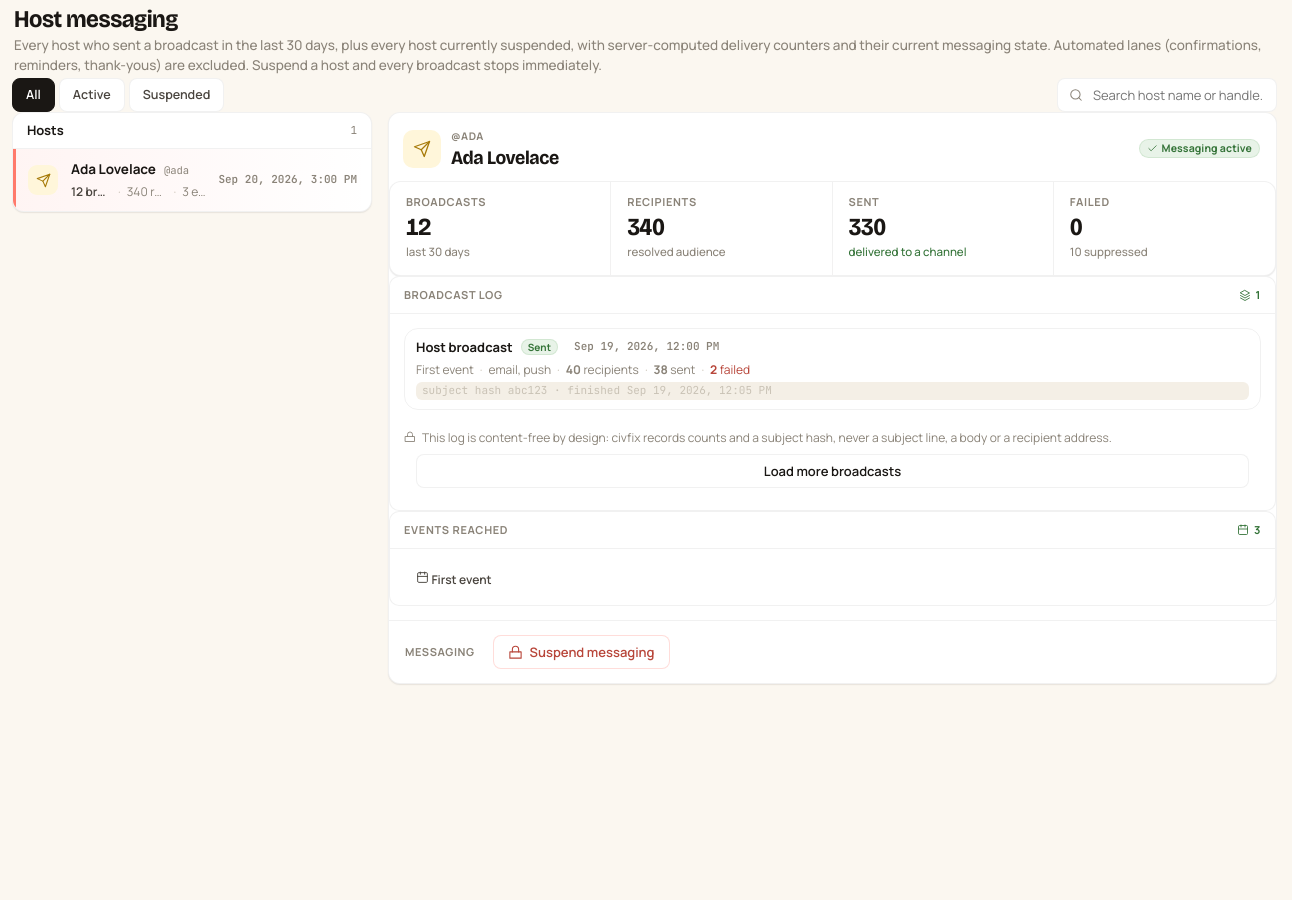
Test case: HostsPage detail pane › pages the broadcast log with its cursor
Click the button "Load more broadcasts". click: point(832, 471)
box: [416,454,1249,488]
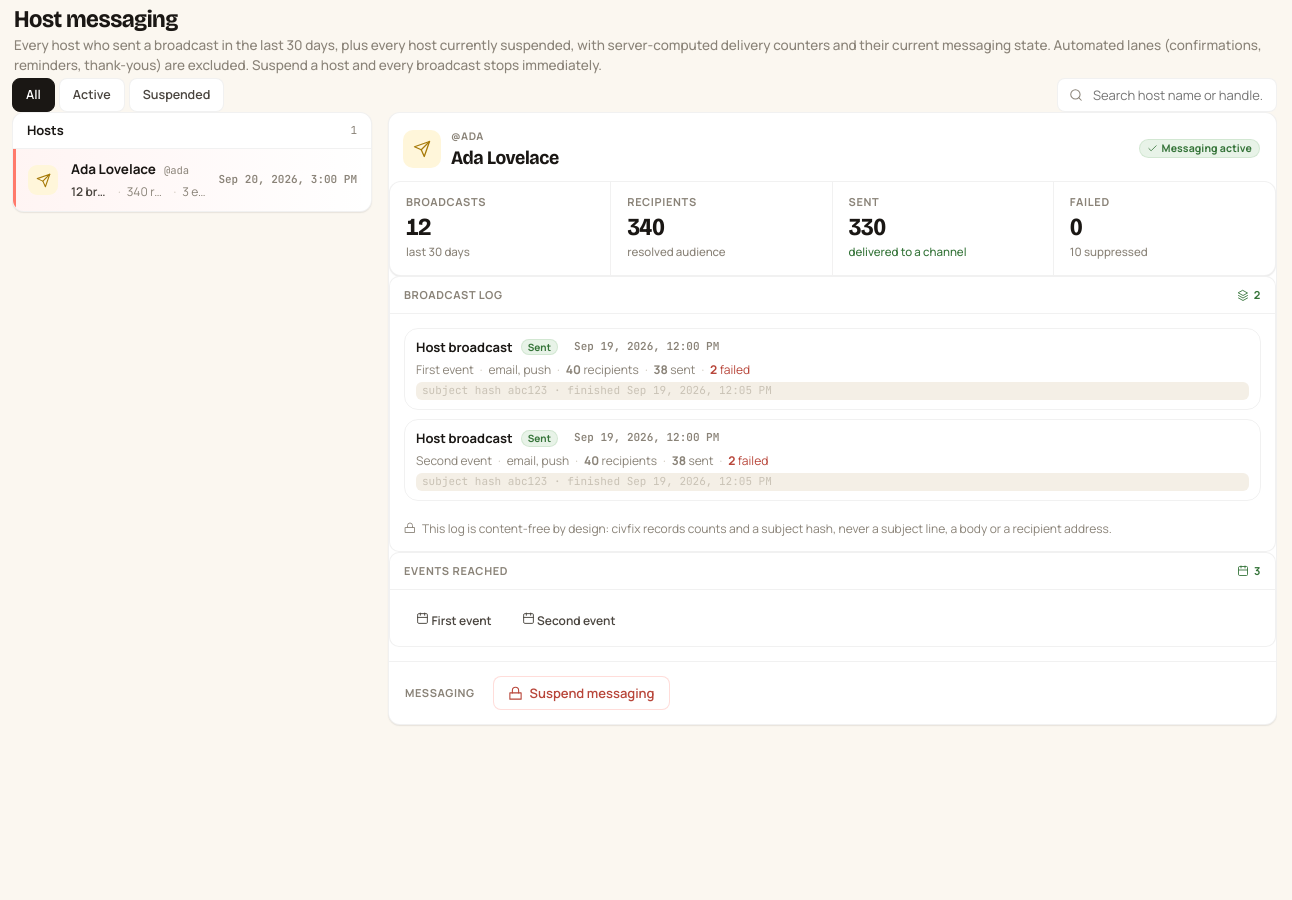
Check: the number of buttons "Second event" is 2, box [416,452,492,469]; [510,604,628,632]
Check: the button "Load more broadcasts" is gone
